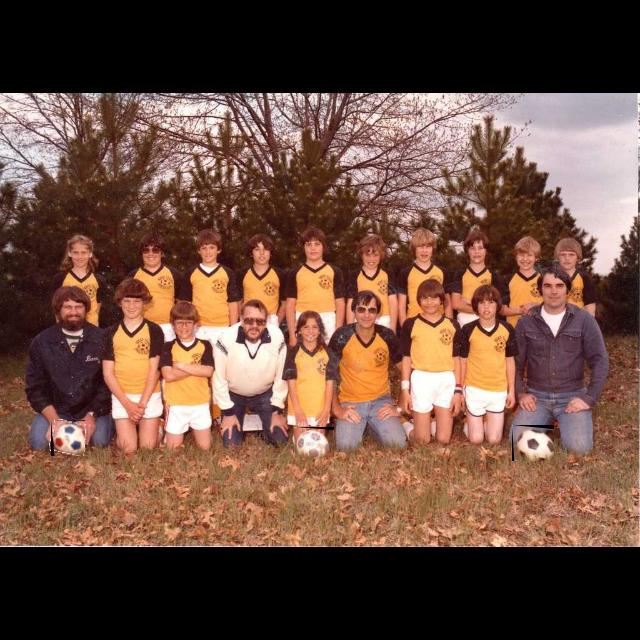Football: (512, 425, 554, 461), (51, 420, 85, 456), (294, 427, 334, 457)
